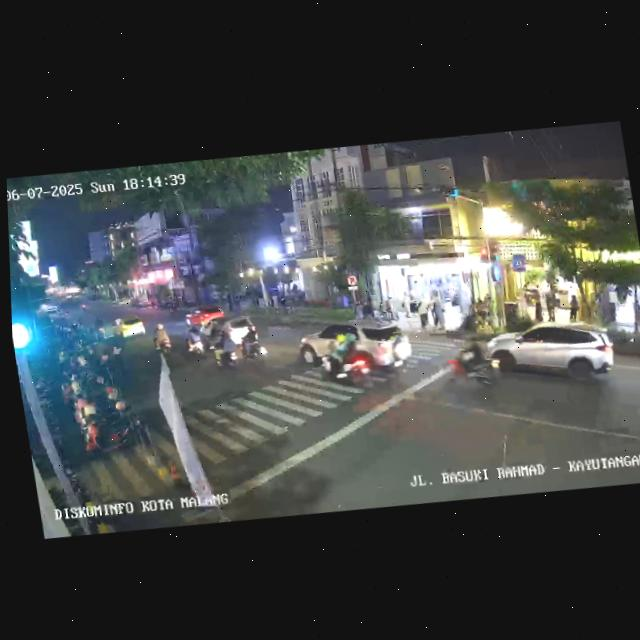car: (487, 313, 621, 397), (295, 311, 414, 382), (199, 312, 258, 348), (182, 302, 227, 333), (110, 311, 148, 342)
motorcycle: (312, 320, 410, 400), (441, 333, 498, 393), (233, 315, 269, 365), (208, 329, 244, 372), (182, 325, 207, 362), (152, 321, 174, 360)
person: (110, 342, 128, 379), (429, 297, 447, 332), (414, 296, 430, 330), (542, 288, 557, 320), (529, 287, 543, 321), (565, 291, 580, 321), (397, 290, 411, 321)
